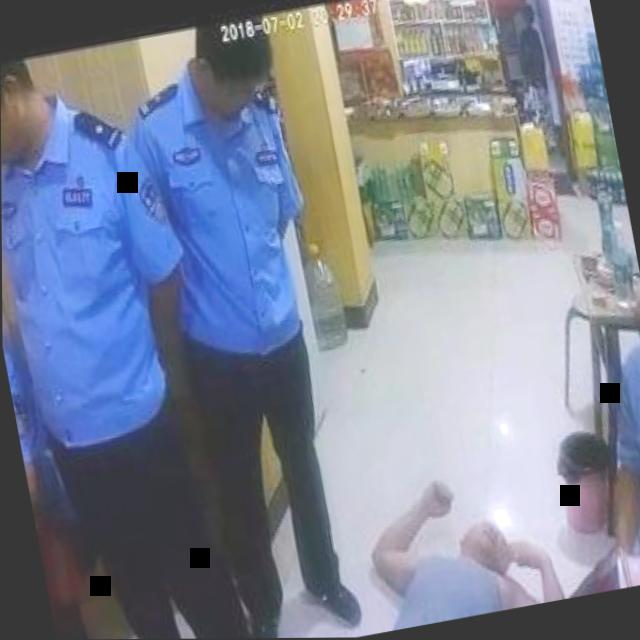Fall-Detected: (131, 421, 570, 639)
